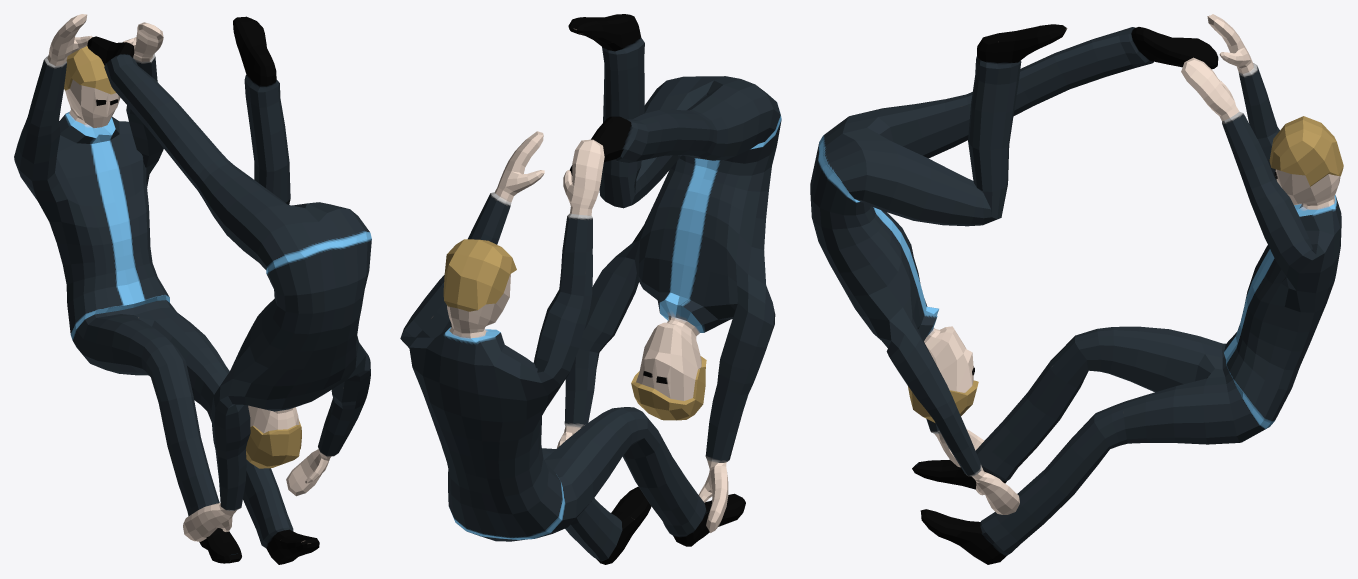
The model's file is PT_char_002.fbx.
The picture shows the model from 3 angles, left to right: view 1: azimuth 30°, elevation 25°; view 2: azimuth 150°, elevation 25°; view 3: azimuth 270°, elevation 25°; orthographic projection. The views are drawn at different scales.
Visible parts, largest first — view 1: Box005; view 2: Box005; view 3: Box005.
Boxes of the visible parts, x1,y1,x2,y2 form: Box005: (14, 14, 371, 564); Box005: (400, 14, 781, 564); Box005: (810, 14, 1343, 564).
Bounding box in the file's own units: 6.27 × 17.64 × 15.98.
1 material, 1 textured.
